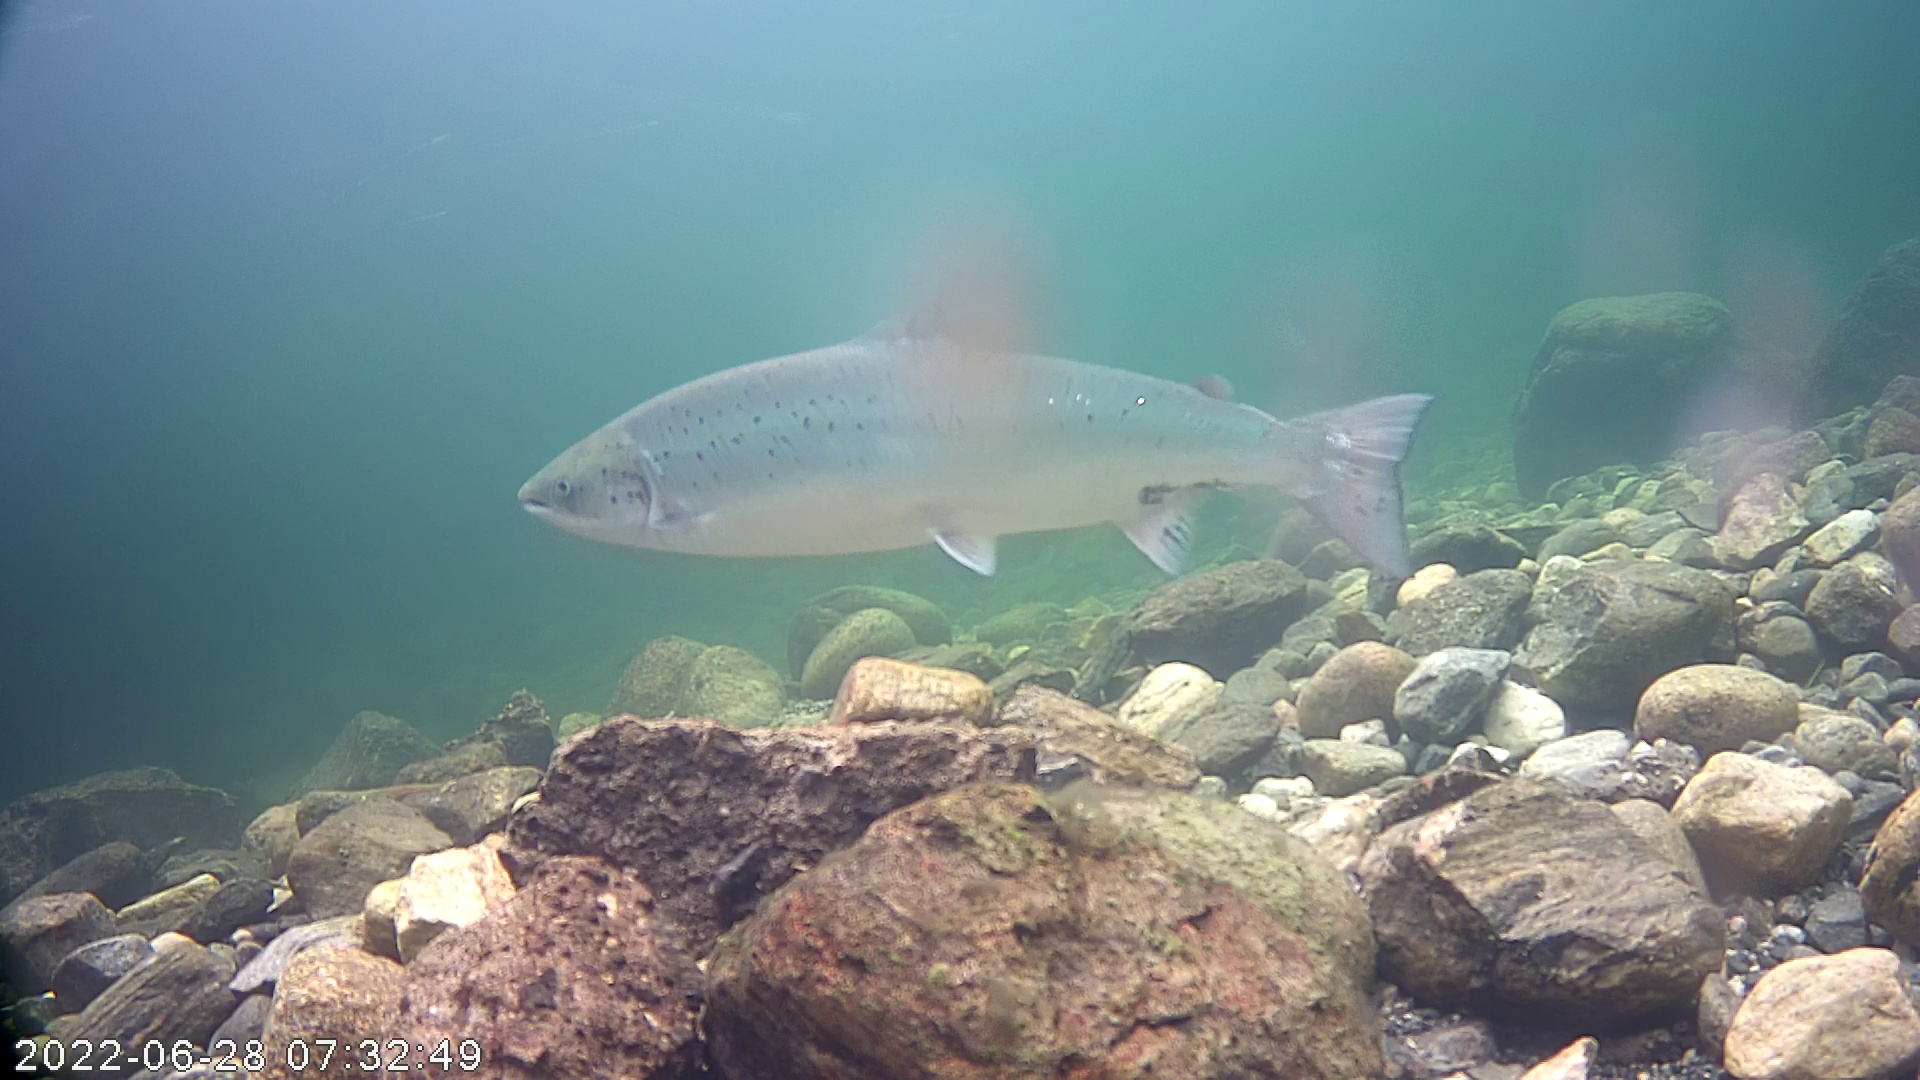salmon: (514, 214, 1455, 632)
